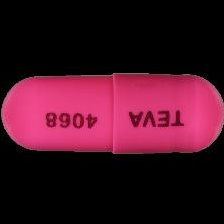43353-035: (0, 0, 224, 224)
